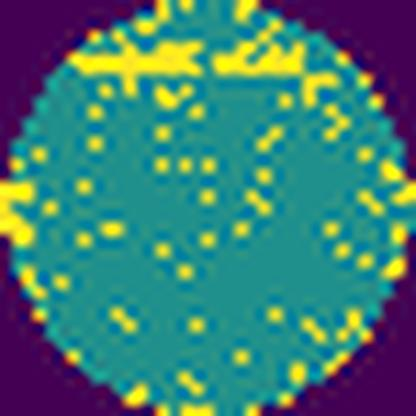Loc: (68, 38, 200, 96), (211, 22, 304, 72), (295, 74, 339, 110)
